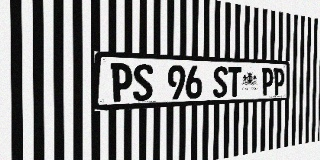6: (186, 65, 202, 99)
9: (168, 65, 185, 100)
P: (110, 63, 132, 102), (261, 68, 273, 96), (273, 68, 284, 95)
S: (133, 64, 153, 101), (213, 66, 228, 98)
T: (228, 67, 242, 97)
